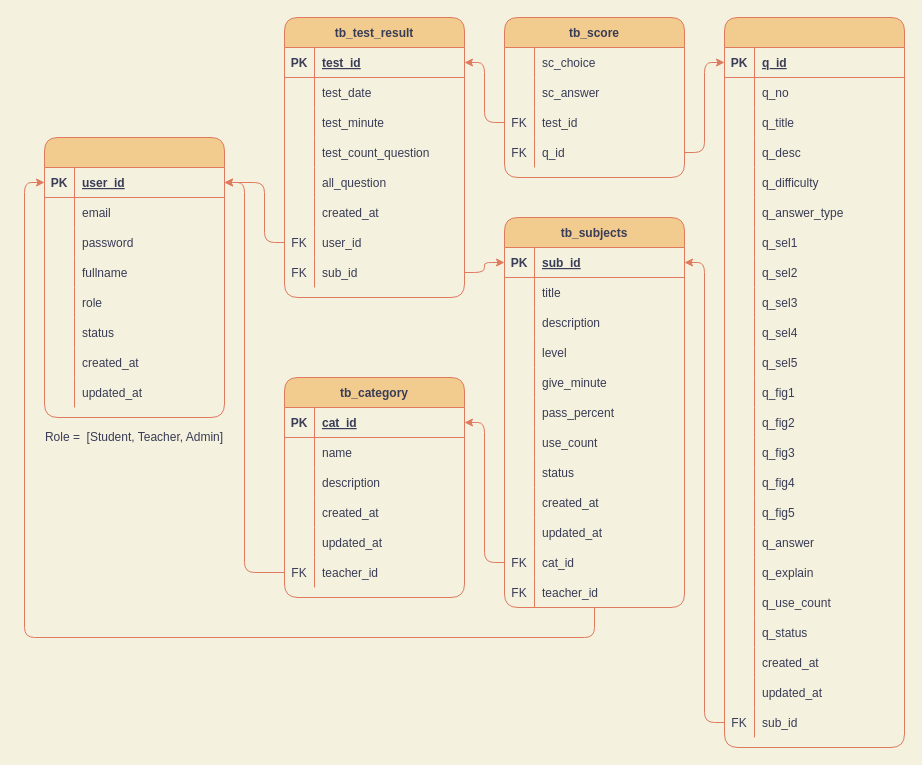
Some shapes in this 922 by 765 pixel diagram are drawn without their labels. Here are the shapes that lost their labels. From the top down, the box of each, then its label:
(44, 136, 224, 418): tb_users
(724, 16, 904, 748): tb_questions
